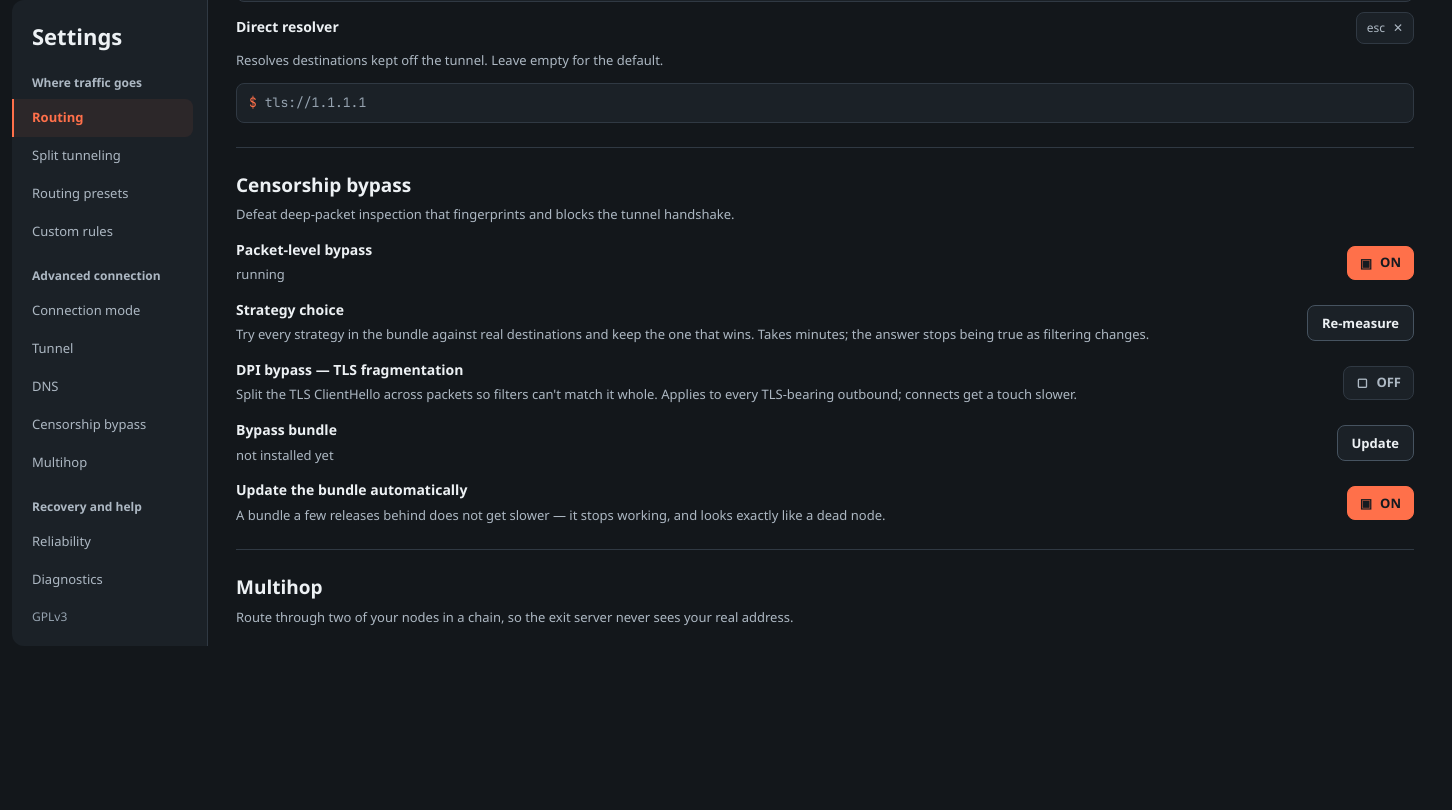
Test: SettingsScreen — bypass bundle › controls › run progress › says which strategy the run is on and how far it has come
(page scrolled)
What coordinates should you click on to do the following:
click the button "Re-measure"
I would click on:
 (1360, 323)
Its box is [1307,305,1414,341].
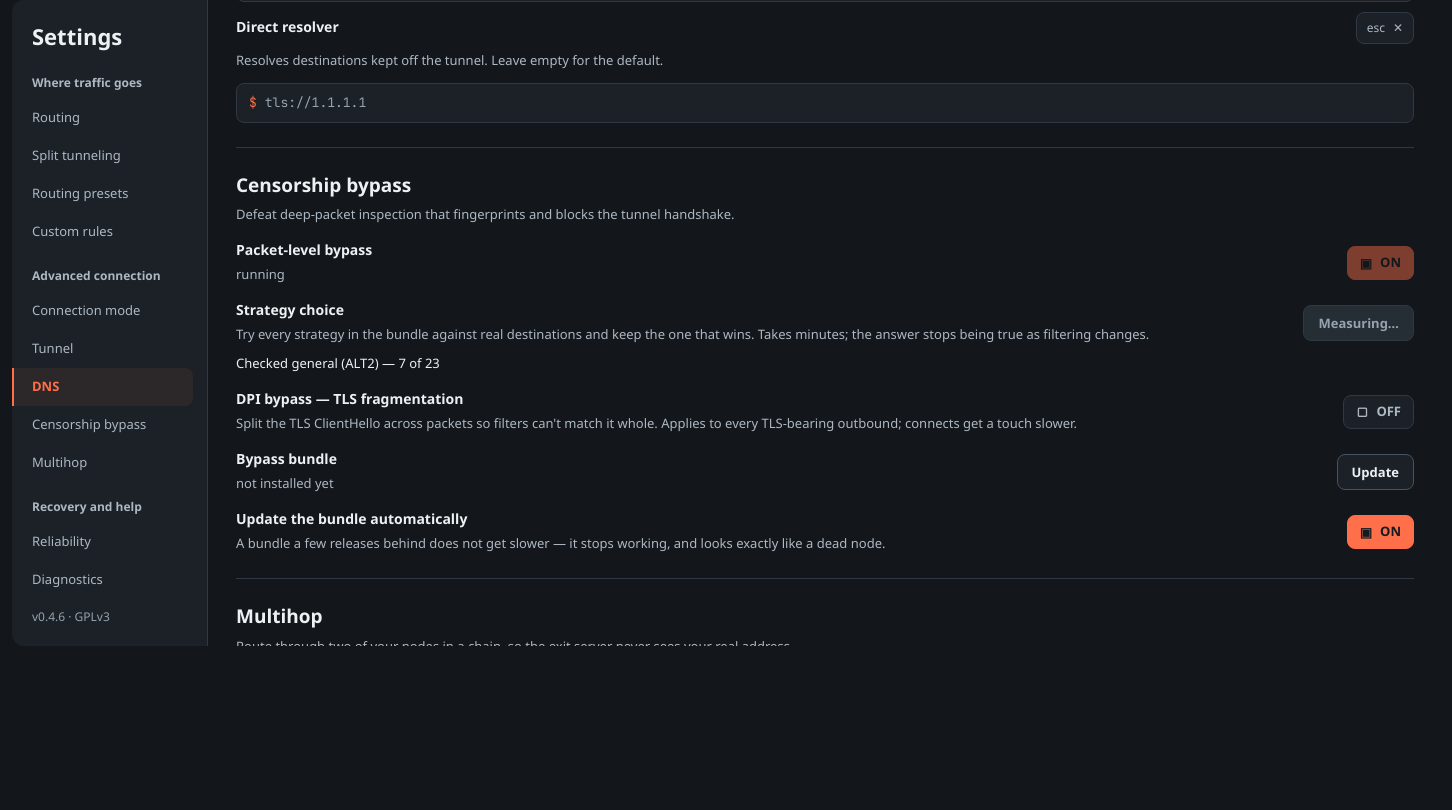
Check: the text "Checked general (ALT2)" is shown, box [236,354,440,372]
Check: the text "7 of 23" is shown, box [236,354,440,372]
